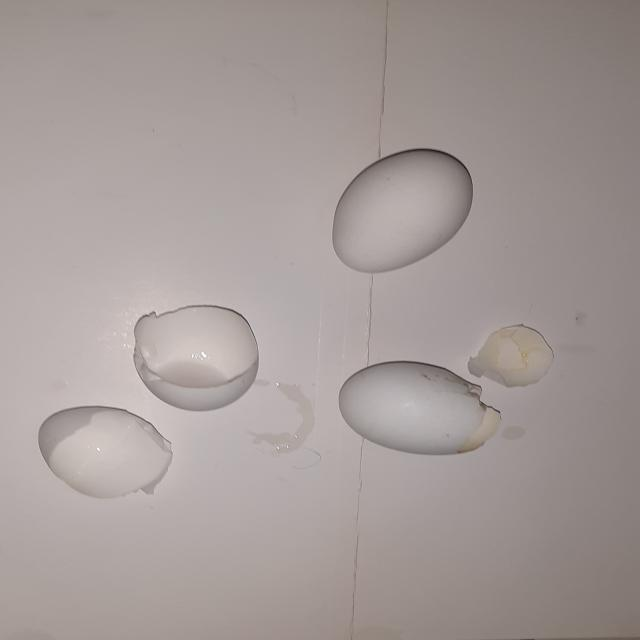egg shell: (328, 142, 484, 276), (332, 362, 504, 459), (129, 300, 268, 414), (36, 404, 176, 501), (463, 319, 562, 389)
